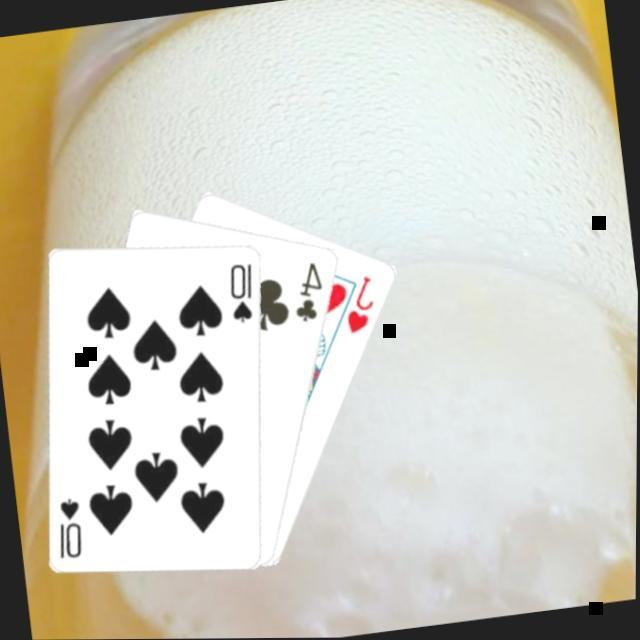10S: (222, 259, 262, 328), (50, 494, 88, 563)
4C: (286, 258, 330, 328)
JH: (338, 273, 381, 339)
